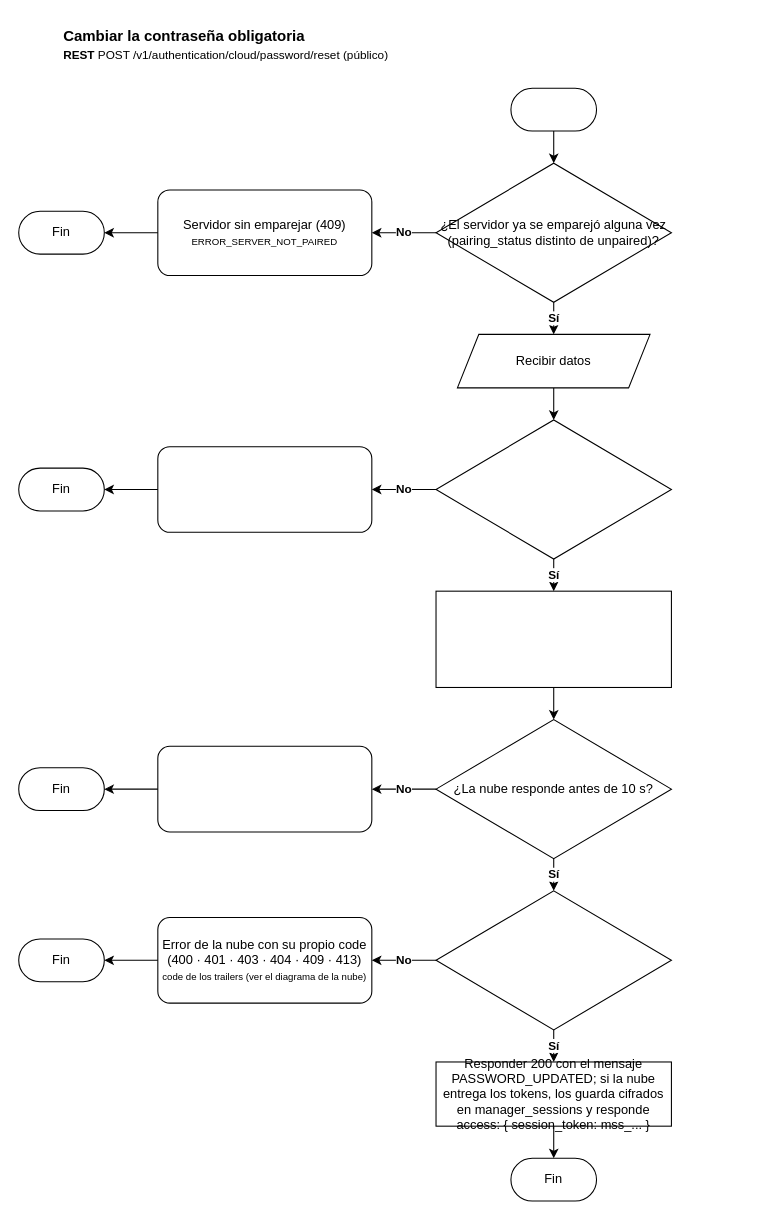
Image size: 765x1220. Some labels were removed from this diagram. Here are the shapes that lost their labels. From the top down, the centre of each, then its label:
At [553,109]: "Inicio".
At [264,489]: "Datos inválidos (400) ERROR_BAD_REQUEST".
At [553,489]: "¿Los datos son válidos?".
At [553,638]: "Llamar a la nube por gRPC: authentication.reset_password (con server_token)".
At [264,788]: "La nube no responde (503) ERROR_CLOUD_UNAVAILABLE · ERROR_SERVER_UNLINKED".
At [553,960]: "¿La nube acepta la petición?".
